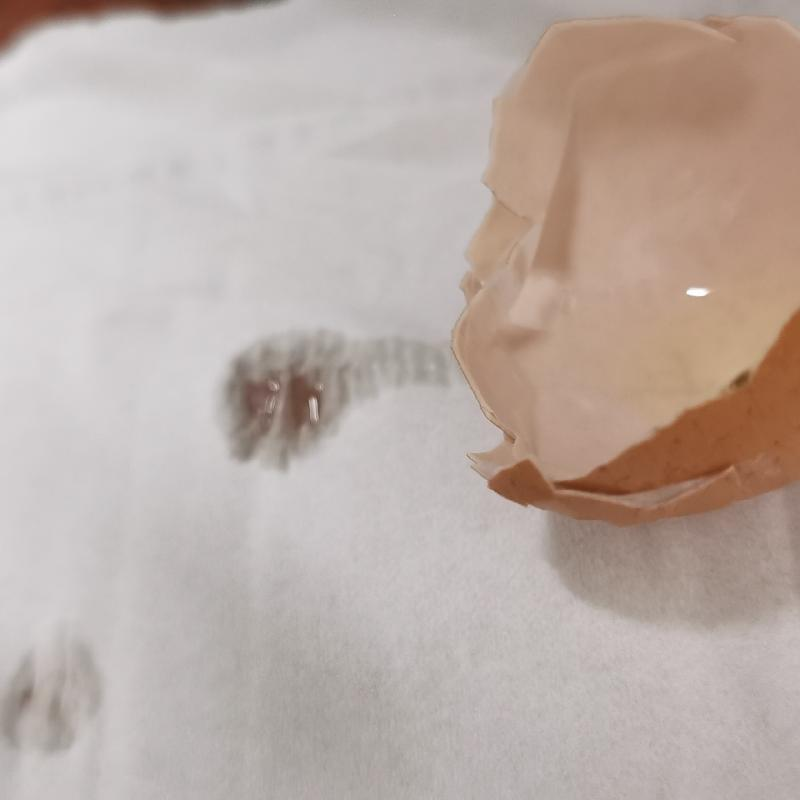eggshell: (453, 21, 800, 534)
